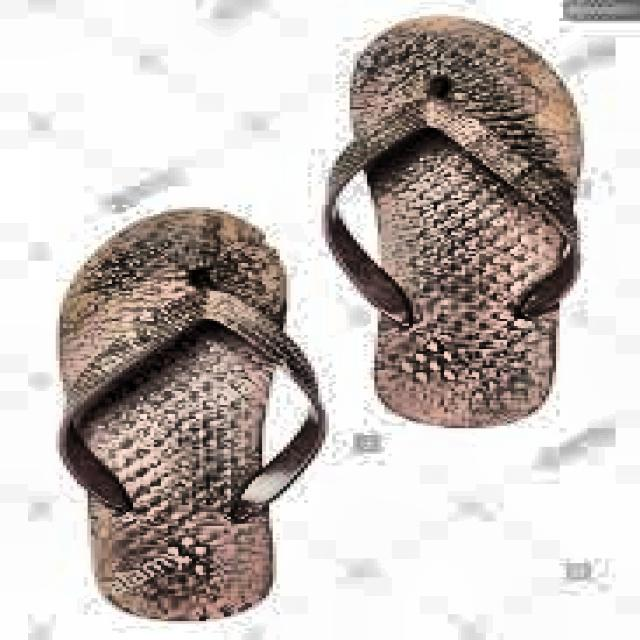shoes: (58, 12, 593, 627)
